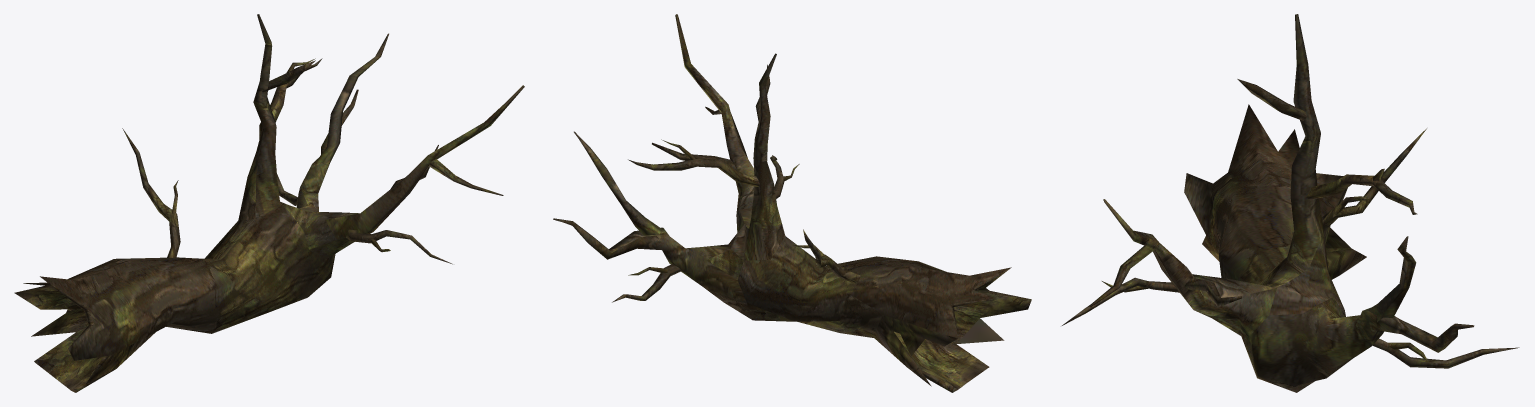
File: 10104_Tree_K06.FBX
3 renders of one model, left to right at view 1: azimuth 30°, elevation 25°; view 2: azimuth 150°, elevation 25°; view 3: azimuth 270°, elevation 25°, orthographic. The views are drawn at different scales.
Parts seen in each view (by area): view 1: Object016; view 2: Object016; view 3: Object016.
Boxes of the visible parts, x1,y1,x2,y2 form: Object016: (14,14,524,392); Object016: (553,14,1031,392); Object016: (1062,14,1519,392).
Size of the model in its own units: 883 by 635 by 670.
